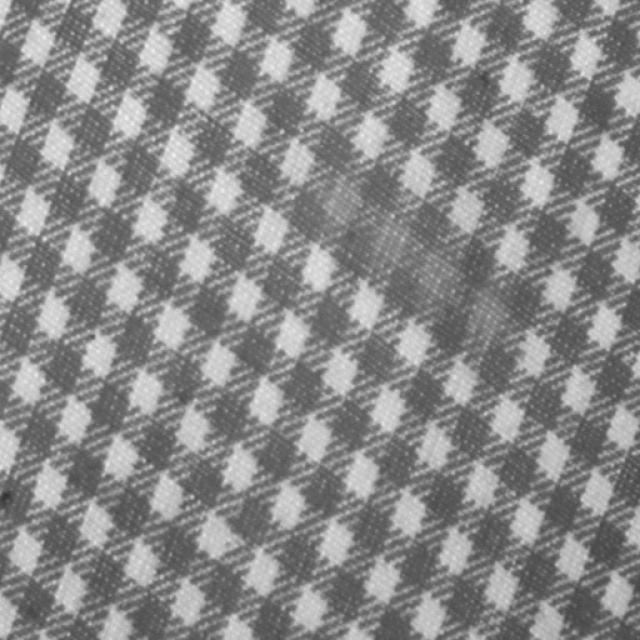Stain-Defect: (316, 169, 519, 358)
